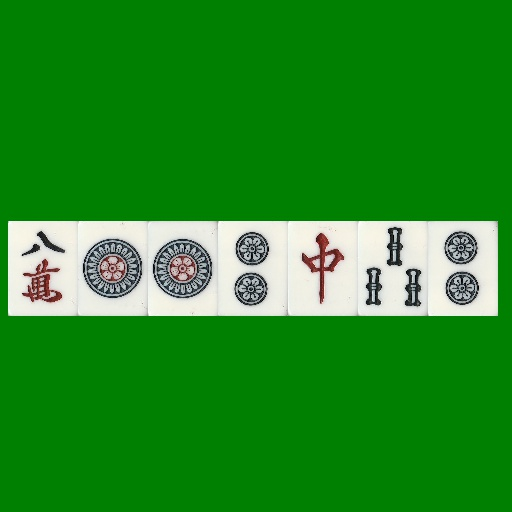1p: (78, 221, 148, 316), (148, 221, 218, 316)
2p: (218, 221, 288, 316), (428, 221, 498, 316)
3s: (358, 221, 428, 316)
8m: (8, 221, 78, 316)
tyun: (288, 221, 358, 316)
